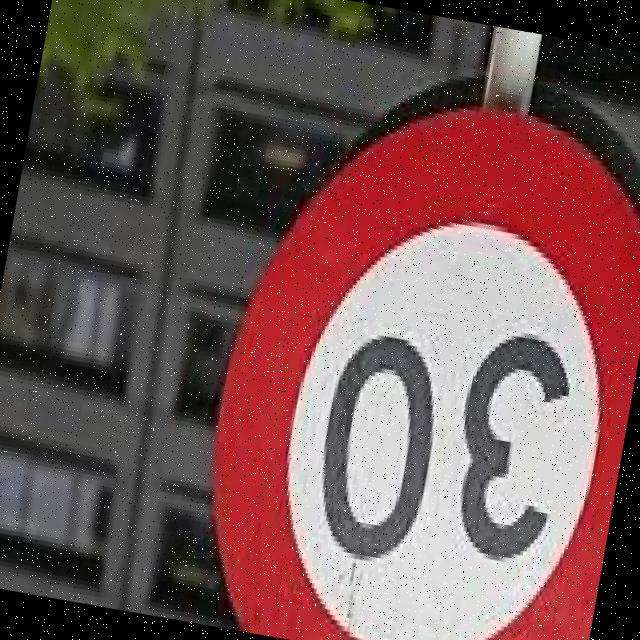speed_limit_30: (181, 67, 640, 640)
